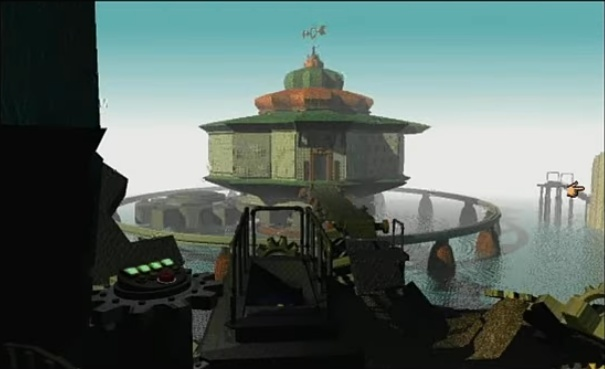Pointer: (559, 175, 587, 200)
